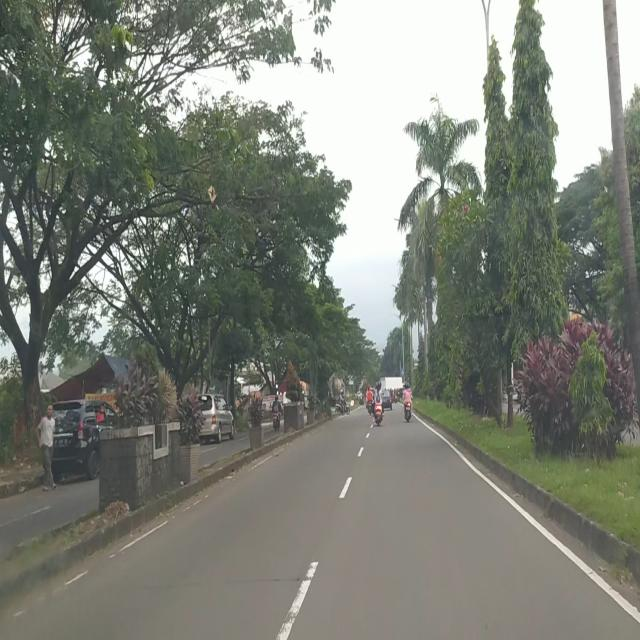Sewer Cover: (222, 574, 305, 584)
